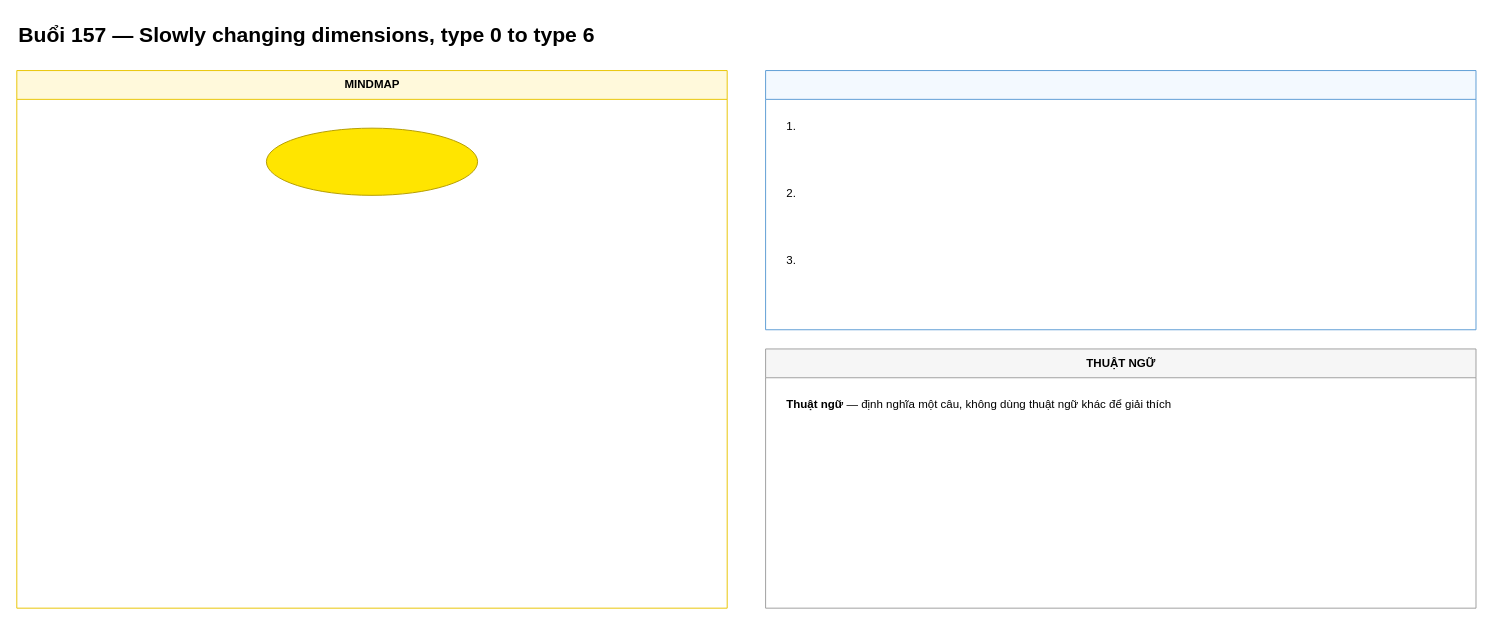
The diagram is 1493 pixels wide and 625 high, and some of its shapes have lost their labels. The box of each missing label's shape, as (x1, y1, x2, y2) in pixels:
KEY TAKEAWAY — ba điều phải nhớ: (765, 70, 1476, 330)
Slowly changing dimensions, type 0 to type 6: (265, 127, 478, 195)
